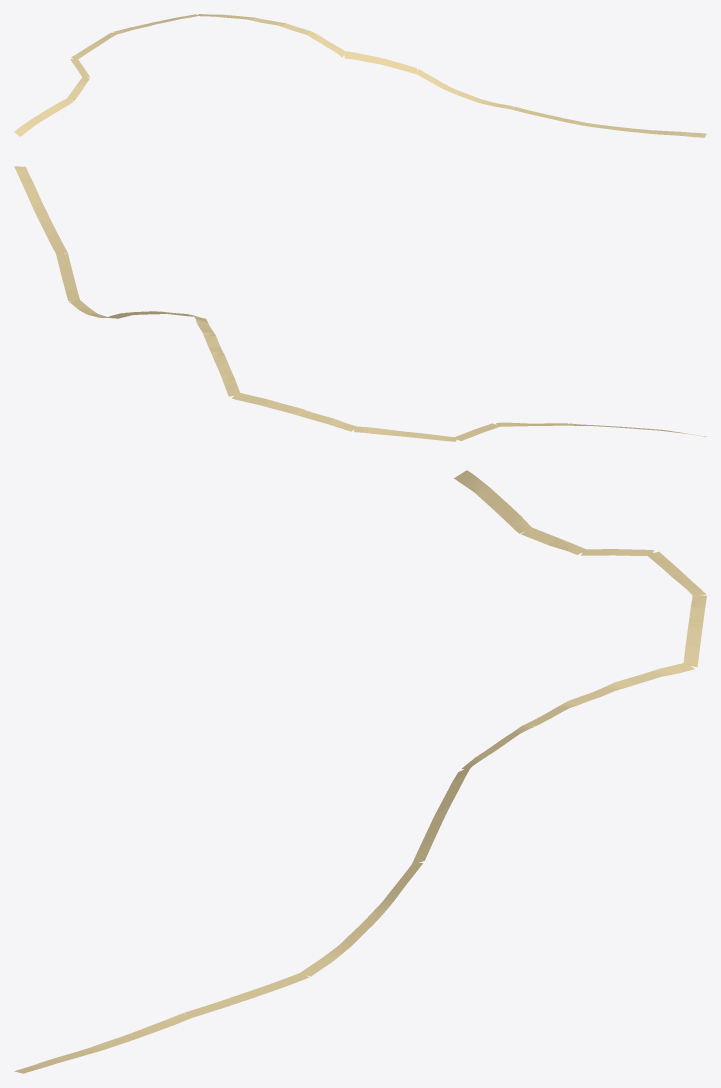
Rendered from Trail_19.glb.
3 views of the same model, one above another, from view 1: azimuth 30°, elevation 25°; view 2: azimuth 150°, elevation 25°; view 3: azimuth 270°, elevation 25° (orthographic). The views are drawn at different scales.
Parts seen in each view (by area): view 1: Trail_19; view 2: Trail_19; view 3: Trail_19.
Part boxes in pixels (x1=…): Trail_19: x1=14, y1=14, x2=706, y2=137; Trail_19: x1=14, y1=166, x2=706, y2=441; Trail_19: x1=14, y1=470, x2=706, y2=1073.
Bounding box in the file's own units: 147 × 18.23 × 84.86.
